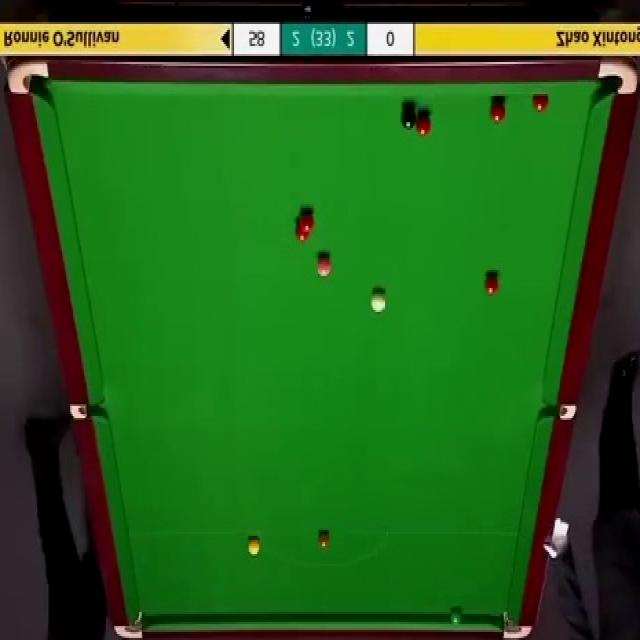black-ball: (401, 107, 416, 129)
brown-ball: (318, 532, 330, 552)
green-ball: (450, 610, 460, 628)
pink-ball: (318, 255, 330, 278)
red-ball: (489, 100, 507, 125), (415, 110, 432, 136), (484, 271, 498, 296), (294, 218, 308, 242), (300, 210, 316, 229), (532, 95, 548, 112)
white-ball: (369, 288, 386, 316)
yellow-ball: (247, 538, 259, 554)
